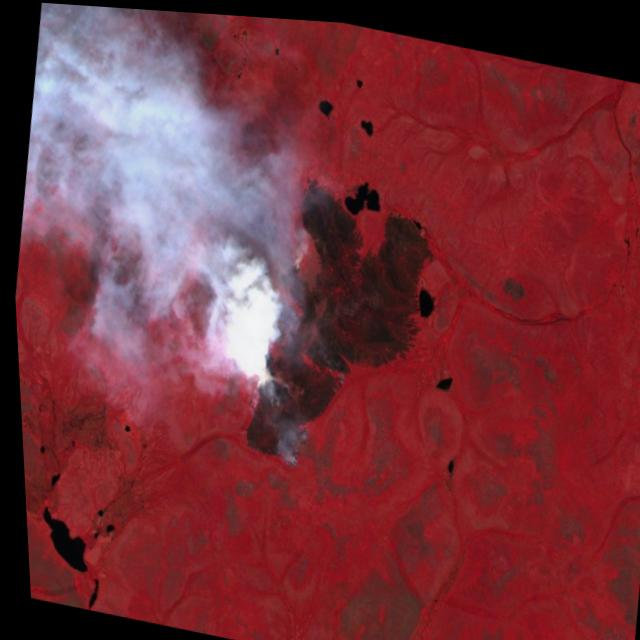fire: (212, 241, 333, 472)
